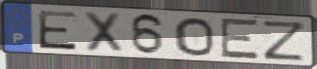6: (129, 12, 169, 57)
E: (219, 16, 261, 61), (36, 9, 79, 52)
O: (172, 16, 217, 57)
X: (82, 10, 125, 55)
Z: (260, 19, 308, 62)
